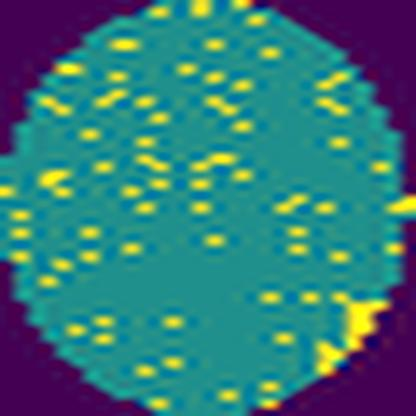Edge-Loc: (311, 283, 391, 376)
